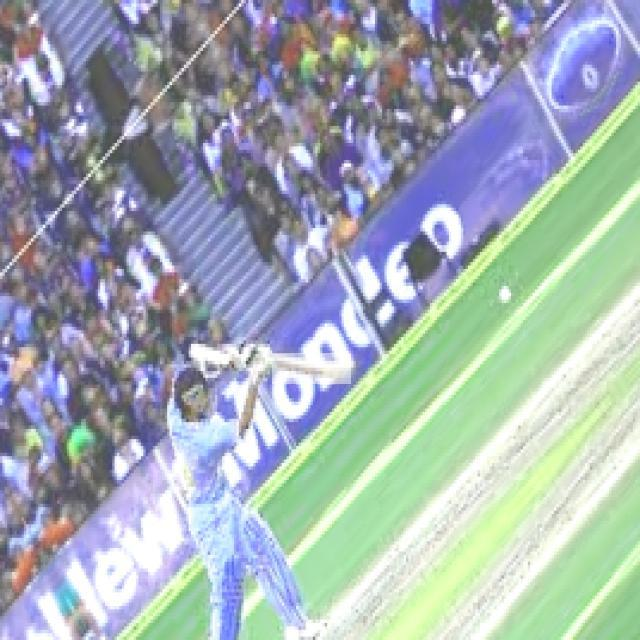bat: (261, 356, 352, 386)
